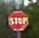stop: (7, 10, 29, 31)
